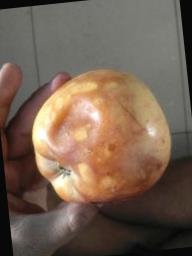Apple Rotten: (20, 56, 182, 214)
